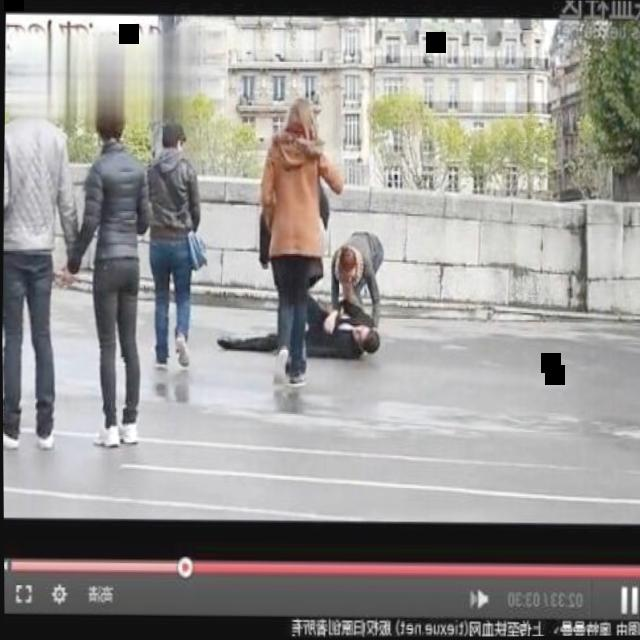Fall-Detected: (217, 279, 394, 377)
